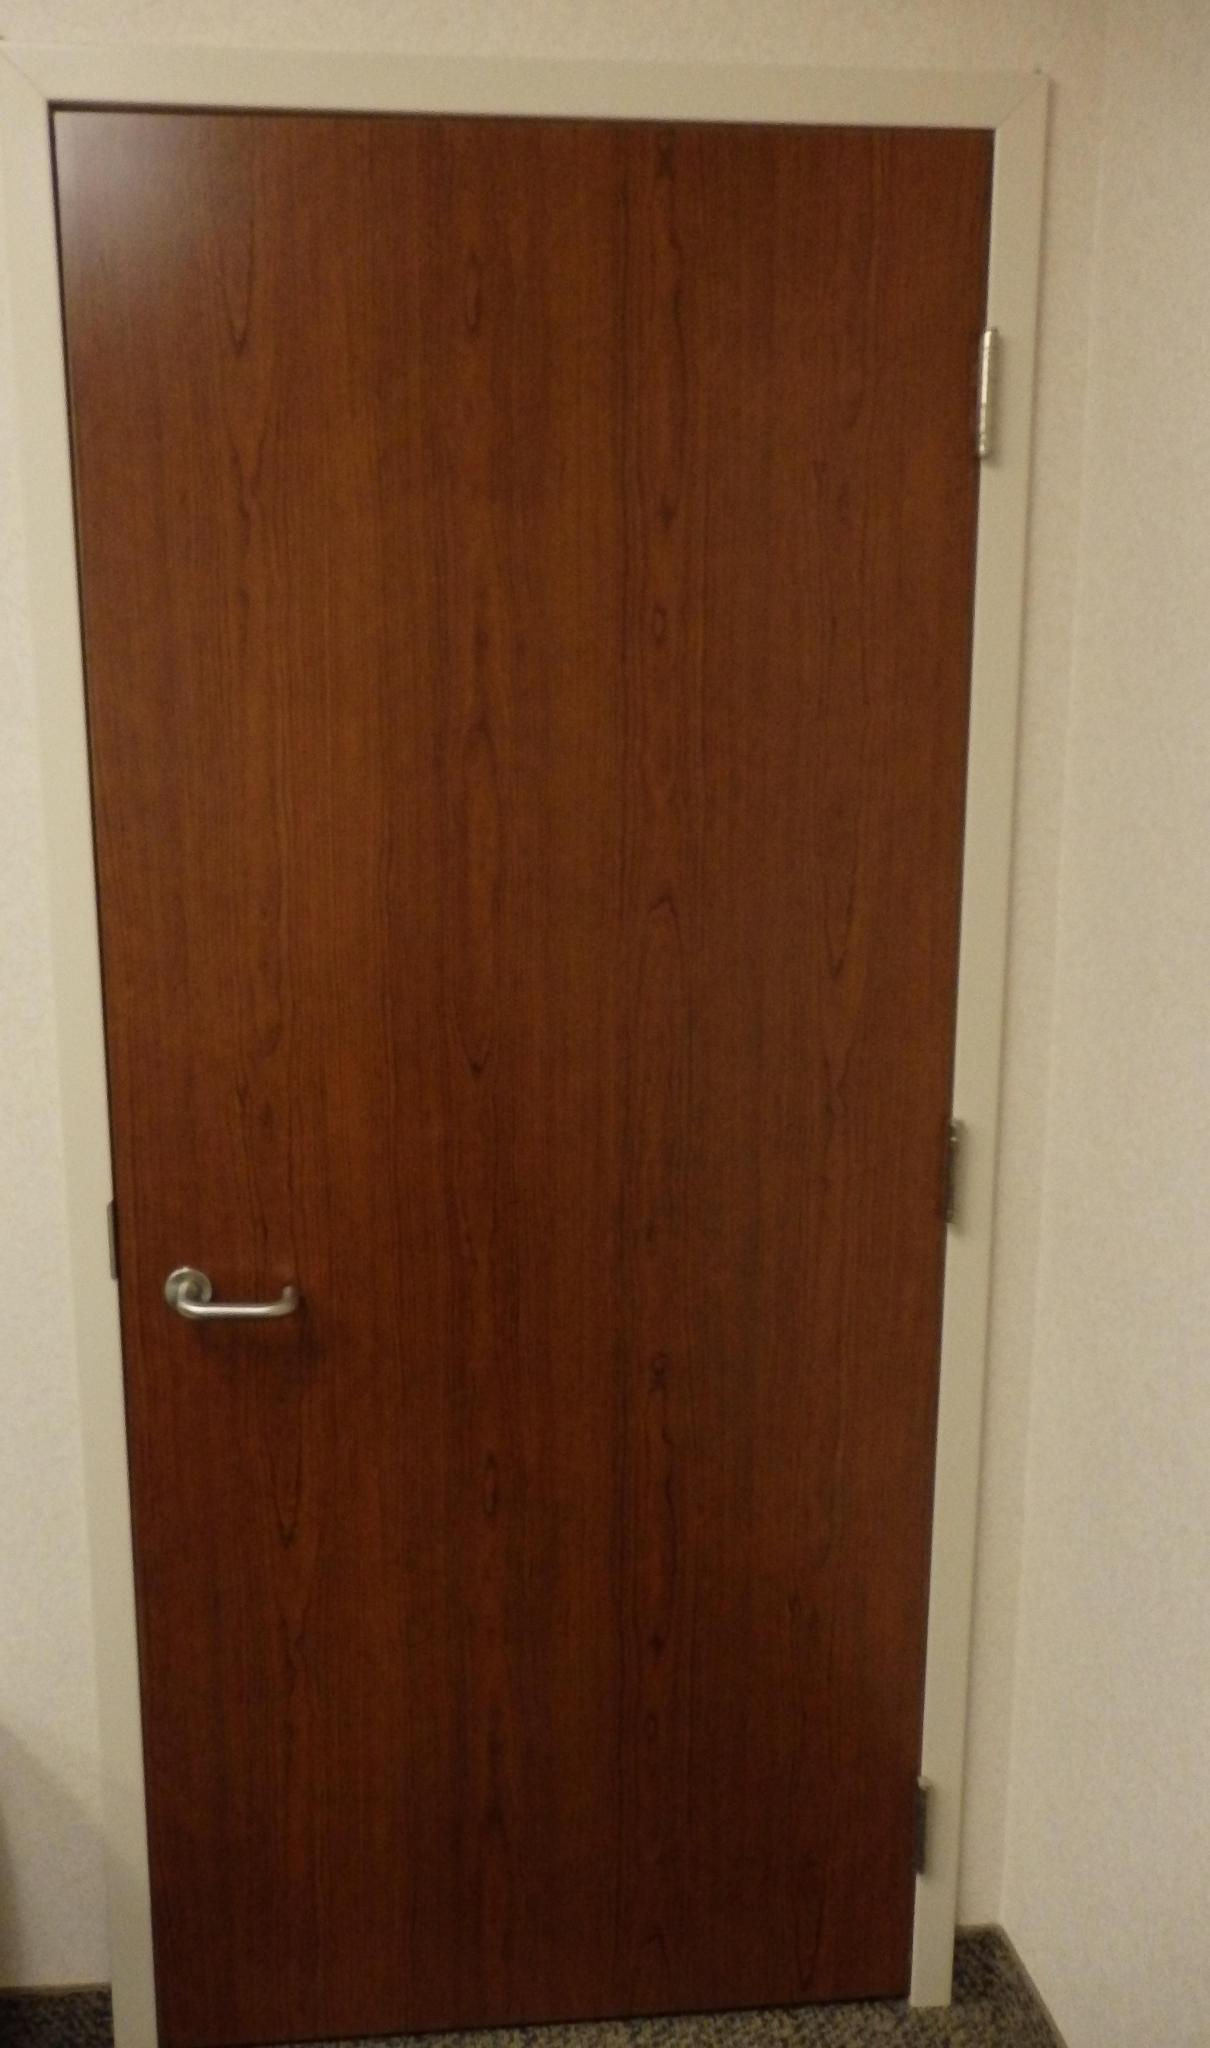door: (156, 184, 951, 2011)
handle: (160, 1237, 315, 1360)
